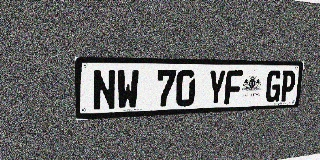0: (175, 70, 196, 107)
7: (155, 70, 176, 108)
F: (224, 70, 243, 104)
G: (265, 70, 282, 103)
N: (92, 69, 116, 111)
P: (279, 70, 296, 102)
W: (117, 69, 139, 110)
Y: (207, 70, 226, 105)
